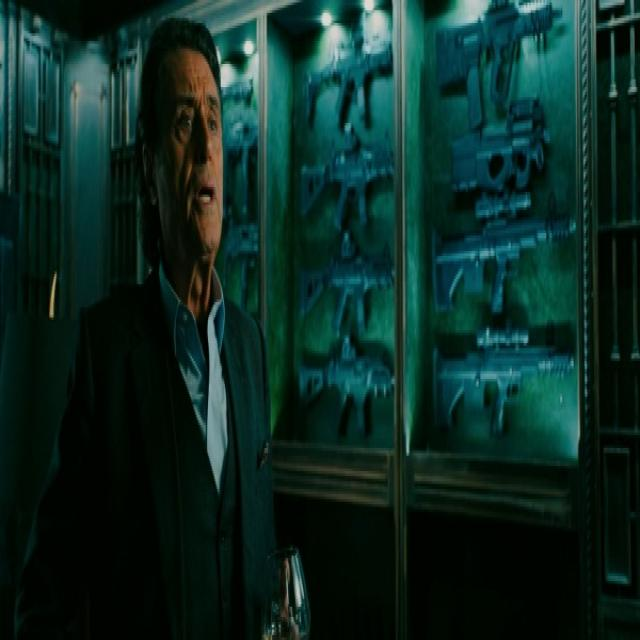rifle: (431, 1, 566, 139), (425, 324, 580, 441), (429, 206, 582, 320), (296, 124, 402, 242), (293, 333, 400, 448), (296, 231, 399, 346), (304, 31, 395, 136)
